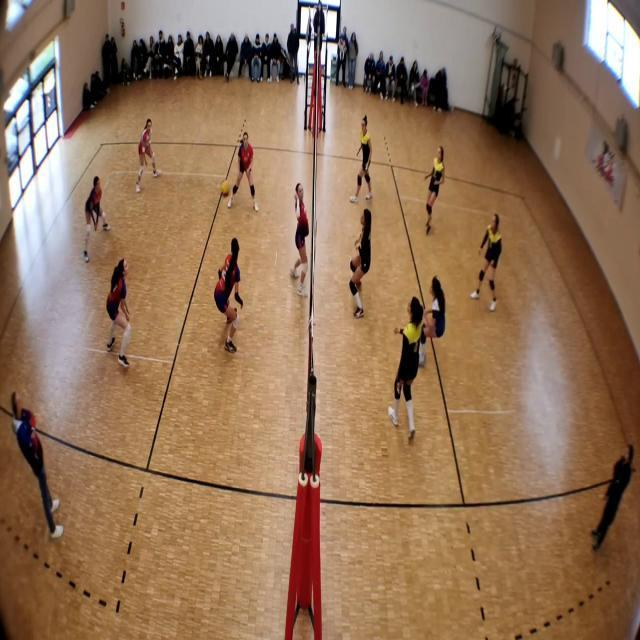volleyball: (218, 180, 231, 198)
